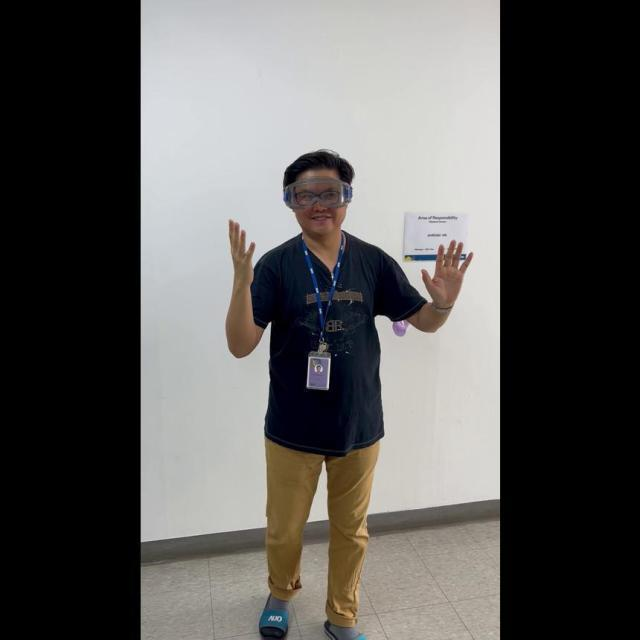bare_hand: (418, 234, 472, 309), (225, 211, 255, 288)
